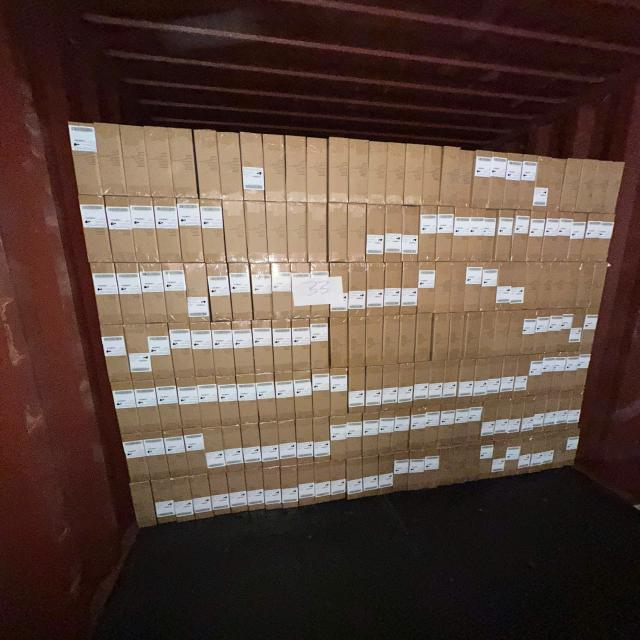Carton: (66, 122, 103, 199), (95, 120, 129, 195), (80, 195, 113, 263), (120, 125, 150, 196), (144, 126, 172, 197), (170, 130, 198, 199), (91, 264, 122, 326), (106, 196, 134, 262), (100, 326, 132, 383), (196, 128, 222, 198), (131, 197, 159, 262), (115, 264, 144, 325), (156, 197, 183, 262), (217, 133, 242, 202), (178, 200, 204, 265), (239, 132, 263, 201), (202, 200, 226, 264), (304, 136, 327, 202), (223, 202, 247, 265), (141, 264, 166, 324), (185, 263, 210, 323), (265, 136, 287, 204), (126, 326, 152, 383), (122, 432, 151, 483), (285, 137, 307, 204), (140, 431, 170, 480), (471, 210, 498, 264), (327, 138, 349, 204), (207, 264, 232, 322), (165, 262, 189, 322), (128, 480, 158, 528), (572, 159, 598, 213), (438, 145, 461, 206), (112, 382, 140, 432), (558, 158, 584, 211), (170, 324, 194, 381), (246, 203, 268, 265), (267, 201, 289, 263), (586, 161, 612, 213), (580, 212, 607, 262), (148, 324, 172, 380), (349, 140, 370, 204), (449, 206, 473, 262), (231, 263, 254, 321), (135, 381, 161, 432), (286, 204, 308, 264), (307, 203, 329, 262), (212, 322, 235, 378), (190, 323, 213, 379), (157, 379, 182, 430), (163, 432, 190, 479), (151, 478, 178, 525), (272, 263, 294, 320), (471, 150, 493, 207), (183, 428, 209, 476), (406, 144, 426, 206), (367, 143, 387, 205), (386, 144, 406, 206), (251, 264, 273, 320), (486, 152, 508, 208), (501, 152, 523, 208), (384, 204, 404, 264), (422, 146, 442, 206), (201, 428, 227, 474), (189, 474, 215, 520), (330, 205, 350, 264), (346, 204, 366, 263), (291, 263, 312, 319), (234, 322, 255, 377), (368, 204, 387, 264), (494, 209, 515, 263), (517, 155, 538, 209), (603, 161, 624, 215), (222, 425, 246, 472), (170, 477, 195, 522), (180, 376, 202, 427), (539, 211, 561, 262), (348, 263, 368, 319), (330, 263, 350, 319), (526, 210, 547, 263), (253, 320, 273, 375), (217, 377, 239, 427), (199, 378, 221, 428), (553, 212, 575, 262), (456, 150, 475, 207), (273, 321, 293, 375), (512, 209, 532, 263), (531, 156, 551, 210), (566, 213, 588, 262), (311, 262, 330, 318), (437, 208, 456, 264), (290, 318, 310, 371), (462, 263, 483, 313), (383, 263, 402, 318), (403, 207, 421, 265), (255, 374, 276, 423), (238, 375, 259, 424), (365, 264, 384, 318), (419, 205, 437, 262), (260, 422, 282, 468), (574, 262, 596, 308), (311, 319, 330, 372), (328, 320, 348, 370), (314, 366, 334, 416), (364, 318, 384, 368), (594, 212, 614, 262), (348, 316, 367, 368), (547, 158, 566, 210), (566, 308, 588, 352), (277, 421, 298, 467), (242, 424, 263, 470), (279, 464, 300, 510), (549, 262, 570, 308), (530, 309, 551, 355), (275, 372, 294, 422), (578, 308, 600, 351), (455, 358, 476, 403), (436, 261, 454, 313), (402, 262, 420, 314), (331, 366, 350, 415), (293, 371, 312, 420), (480, 262, 499, 311), (208, 473, 230, 515), (245, 468, 266, 512), (477, 312, 497, 358), (412, 362, 432, 408), (561, 262, 581, 308), (587, 262, 607, 308), (418, 262, 436, 313), (297, 419, 315, 470), (431, 314, 450, 362), (226, 473, 248, 514), (398, 316, 416, 366), (262, 466, 282, 511), (536, 261, 555, 308), (505, 309, 524, 356), (348, 365, 366, 414), (559, 350, 580, 392), (296, 462, 316, 506), (498, 356, 518, 400), (313, 459, 332, 505), (427, 360, 446, 406), (415, 314, 433, 362), (462, 312, 480, 360), (436, 403, 456, 446), (571, 351, 593, 390), (440, 360, 459, 405), (471, 358, 490, 403), (383, 315, 400, 365), (449, 262, 466, 312), (364, 367, 382, 414), (449, 313, 467, 360), (506, 397, 526, 439), (544, 308, 563, 352), (512, 354, 531, 398), (396, 364, 414, 410), (313, 418, 331, 464), (346, 455, 364, 501), (548, 352, 568, 393), (492, 399, 512, 440), (525, 353, 544, 396), (538, 353, 557, 396), (509, 262, 526, 310), (393, 409, 411, 454), (330, 415, 348, 460), (495, 261, 511, 311), (524, 262, 541, 309), (494, 309, 511, 356), (452, 403, 471, 445), (346, 415, 364, 459), (377, 411, 395, 455), (520, 310, 538, 354), (408, 406, 426, 450), (361, 454, 378, 500), (486, 356, 503, 402), (565, 389, 584, 430), (382, 366, 399, 411), (480, 400, 498, 442), (518, 396, 536, 438), (554, 392, 572, 434), (362, 414, 379, 458), (377, 453, 394, 496), (424, 404, 440, 449), (490, 439, 508, 479), (558, 308, 574, 352), (542, 393, 560, 432), (465, 402, 482, 443), (330, 459, 346, 502), (505, 437, 522, 477), (516, 436, 533, 476), (409, 448, 425, 490), (531, 394, 547, 436), (529, 432, 545, 473), (564, 428, 581, 466), (479, 440, 495, 480), (394, 450, 409, 492), (453, 444, 468, 486), (438, 446, 453, 487), (542, 432, 558, 470), (553, 432, 569, 469), (424, 447, 438, 489), (466, 443, 481, 482)
